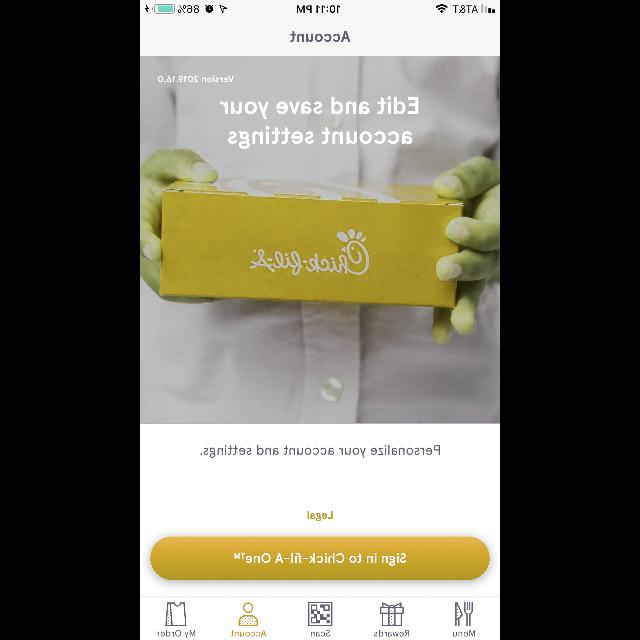icon: (380, 602, 404, 626), (238, 602, 258, 626)
image: (140, 56, 500, 424), (308, 602, 332, 626), (166, 602, 187, 626), (456, 602, 472, 626)
text: (220, 96, 418, 150), (200, 444, 440, 458), (290, 32, 350, 42), (158, 76, 234, 82), (157, 630, 196, 638), (306, 511, 334, 521), (230, 630, 266, 636), (374, 630, 408, 636), (453, 630, 475, 636), (310, 630, 330, 636)
textbutton: (150, 536, 490, 580)
uppertaskbar: (140, 0, 500, 14)
